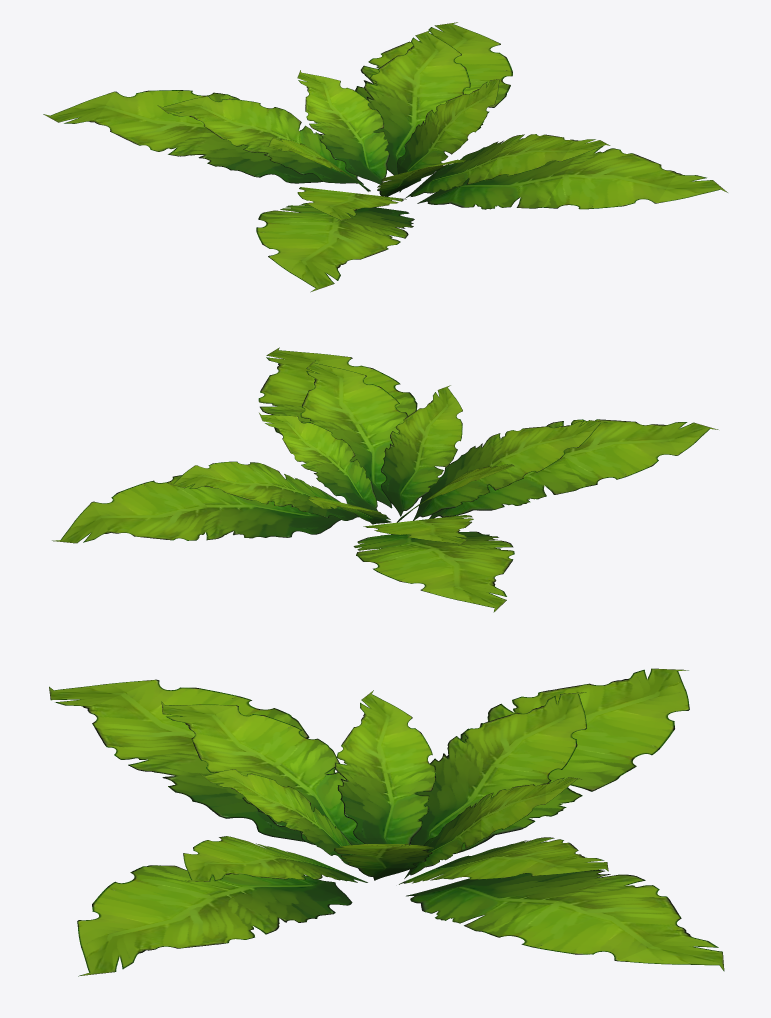
The model's file is Hemp_28.fbx.
3 views of the same model, one above another, from view 1: azimuth 30°, elevation 25°; view 2: azimuth 150°, elevation 25°; view 3: azimuth 270°, elevation 25° (orthographic). The views are drawn at different scales.
Parts seen in each view (by area): view 1: Hemp_28; view 2: Hemp_28; view 3: Hemp_28.
Boxes of the visible parts, bbox=[...] form: Hemp_28: bbox=[43, 22, 727, 292]; Hemp_28: bbox=[52, 347, 718, 612]; Hemp_28: bbox=[49, 668, 724, 976].
Bounding box in the file's own units: 449 × 86.04 × 450.
